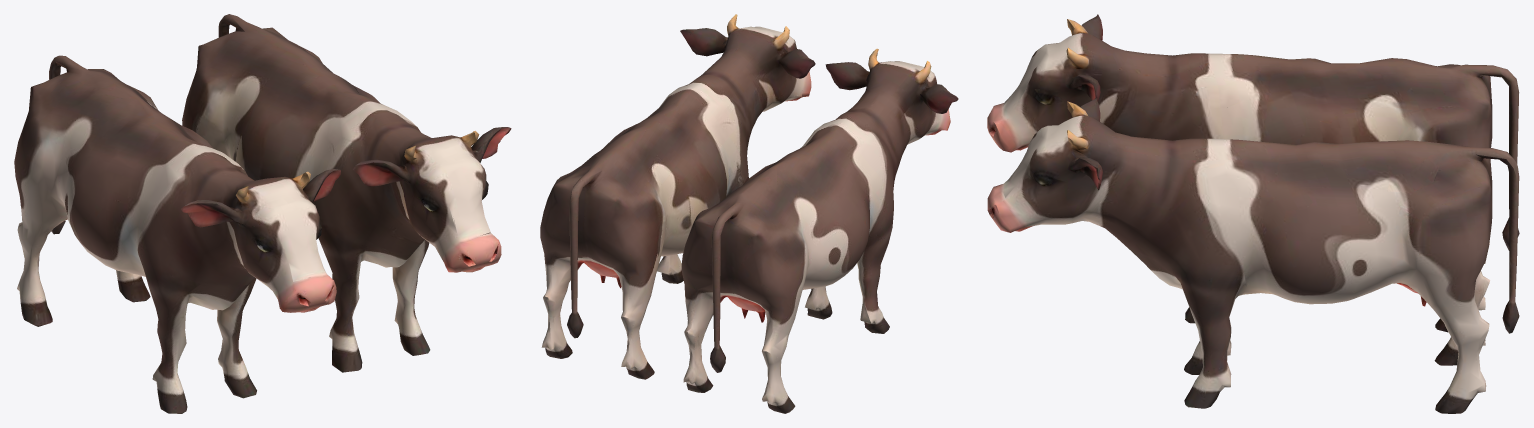
Rendered from cows_pair_lod0.glb.
3 renders of one model, left to right at view 1: azimuth 30°, elevation 25°; view 2: azimuth 150°, elevation 25°; view 3: azimuth 270°, elevation 25°, orthographic. The views are drawn at different scales.
Visible parts, largest first — view 1: cows_pair_lod0; view 2: cows_pair_lod0; view 3: cows_pair_lod0.
Boxes of the visible parts, box(x1,y1,x2,y2) form: cows_pair_lod0: box(14, 14, 511, 413); cows_pair_lod0: box(540, 14, 958, 413); cows_pair_lod0: box(987, 14, 1519, 413).
Bounding box in the file's own units: 2.02 × 1.57 × 2.8.
1 material, 1 textured.
